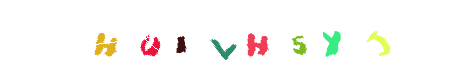5: (194, 0, 274, 80)
H: (129, 0, 209, 80), (192, 0, 272, 80)
I: (172, 0, 252, 80)
J: (310, 0, 390, 80)
L: (181, 0, 261, 80)
U: (141, 0, 221, 80)
Y: (288, 0, 368, 80)
